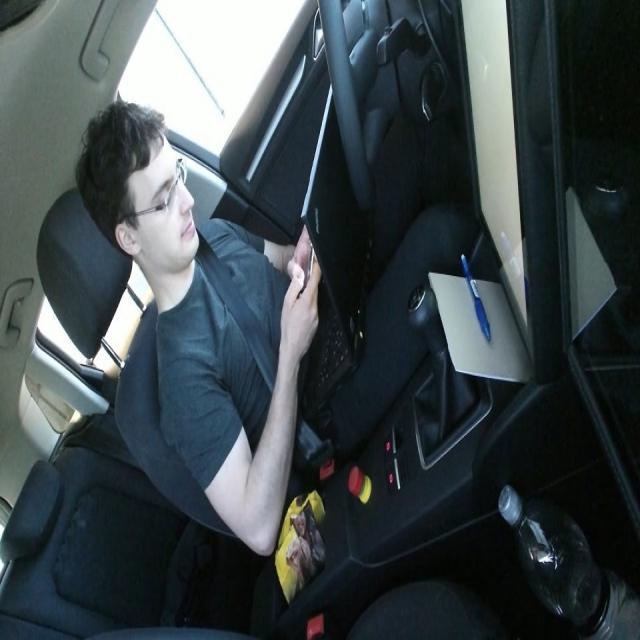laptop: (298, 73, 366, 434)
pen: (460, 251, 491, 343)
